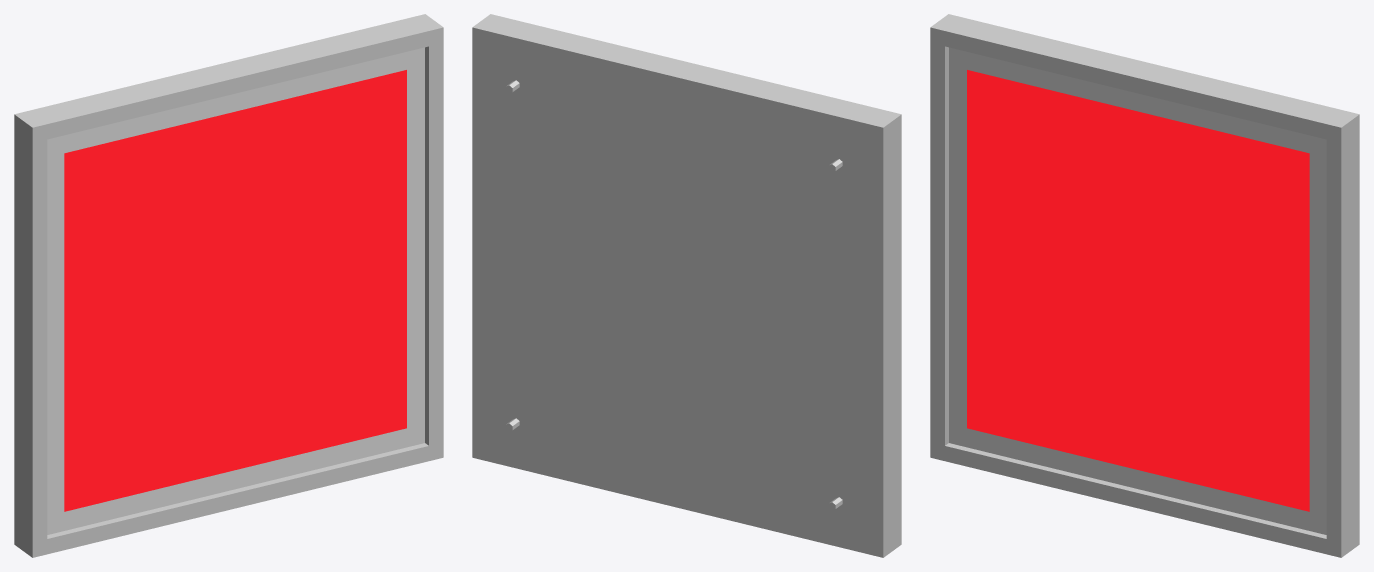
The model's file is sign_katana_square.glb.
3 views of the same model, side by side, from view 1: azimuth 30°, elevation 25°; view 2: azimuth 150°, elevation 25°; view 3: azimuth 330°, elevation 25° (orthographic).
Visible parts, largest first — view 1: sign_katana_square_LOD0; view 2: sign_katana_square_LOD0; view 3: sign_katana_square_LOD0.
Part boxes in pixels (box(x1,y1,x2,y2)): sign_katana_square_LOD0: box(14, 14, 443, 557); sign_katana_square_LOD0: box(472, 14, 901, 557); sign_katana_square_LOD0: box(930, 14, 1359, 557).
Size of what is drawn, in the model's own units: 0.84 by 0.84 by 0.09.
